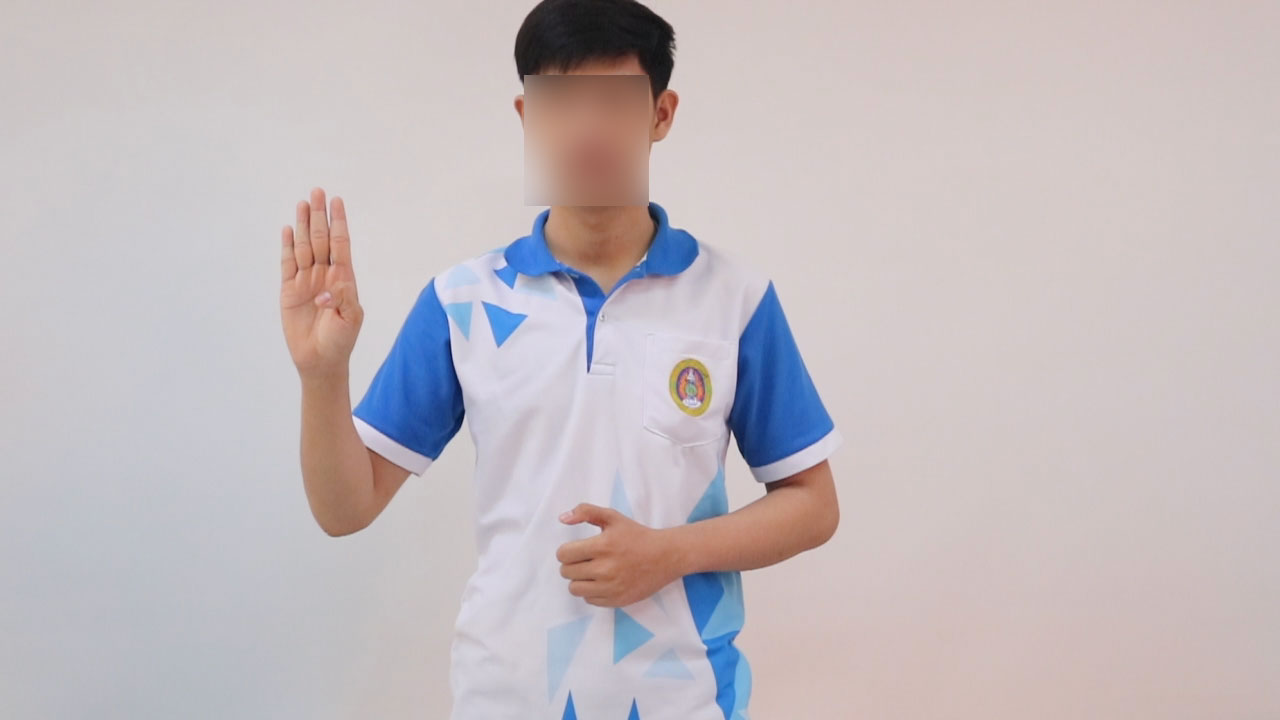bor: (262, 171, 380, 407)
